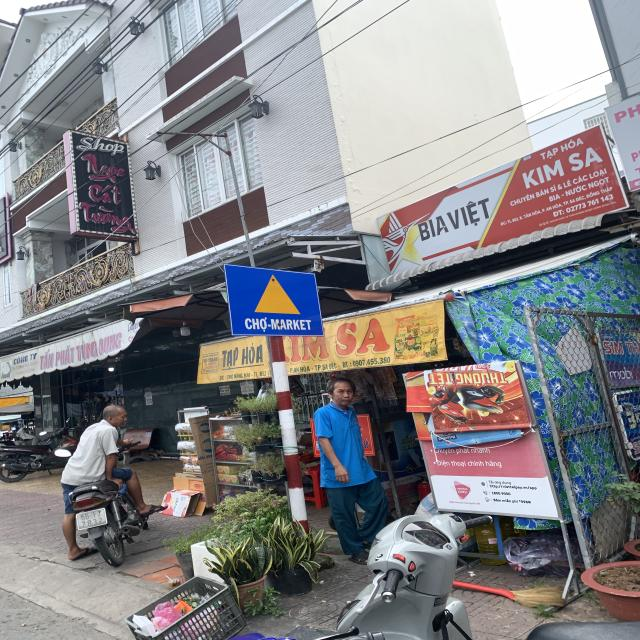Cho_Quay_Xe: (222, 261, 326, 337)
